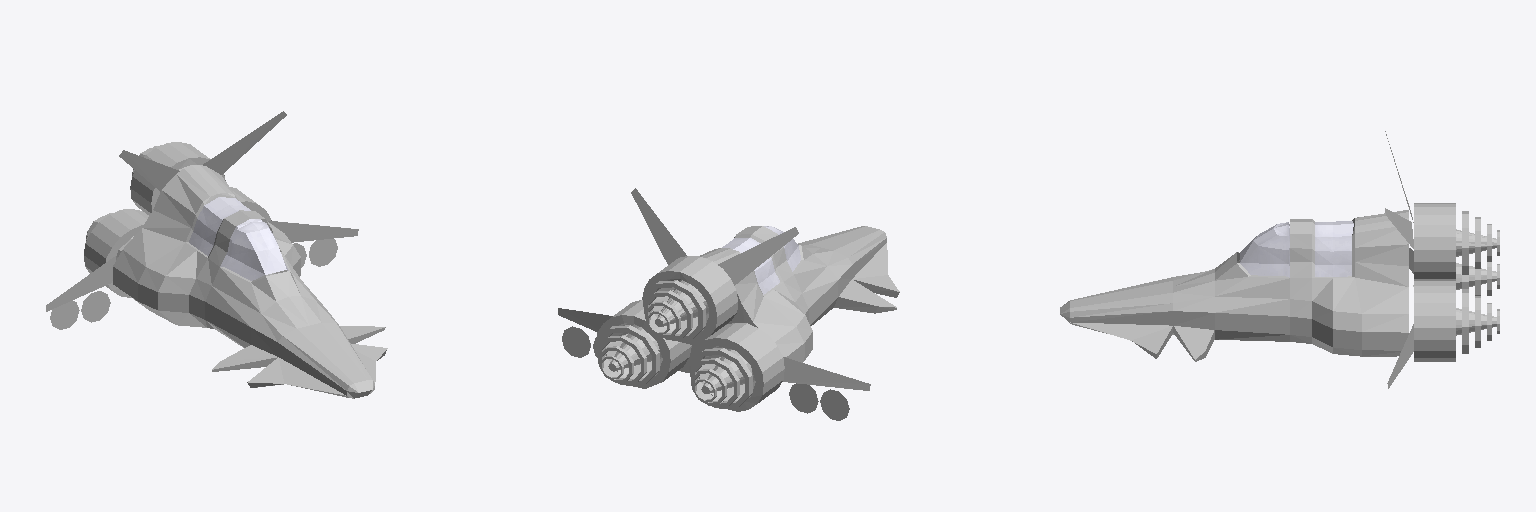
3 views of the same model, side by side, from view 1: azimuth 30°, elevation 25°; view 2: azimuth 150°, elevation 25°; view 3: azimuth 270°, elevation 25° (orthographic).
Parts seen in each view (by area): view 1: Mesh_0112.003, Mesh_0112.001, Mesh_0112.004, Mesh_0112.000, Cylinder, Cylinder.001_Cylinder.002; view 2: Mesh_0112.003, Mesh_0112.001, Mesh_0112.002, Mesh_0112.004, Cylinder, Mesh_0112.000, Cylinder.001_Cylinder.002; view 3: Mesh_0112.003, Mesh_0112.001, Mesh_0112.000, Mesh_0112.002, Mesh_0112.004.
Boxes of the visible parts, box(x1,y1,x2,y2) form: Mesh_0112.003: box(113, 165, 387, 398); Mesh_0112.001: box(84, 142, 271, 297); Mesh_0112.004: box(46, 111, 358, 311); Mesh_0112.000: box(189, 197, 288, 280); Cylinder: box(50, 291, 110, 329); Cylinder.001_Cylinder.002: box(293, 239, 337, 267); Mesh_0112.003: box(679, 226, 899, 372); Mesh_0112.001: box(596, 256, 784, 411); Mesh_0112.002: box(598, 280, 752, 408); Mesh_0112.004: box(558, 188, 870, 390); Cylinder: box(789, 383, 849, 420); Mesh_0112.000: box(722, 226, 800, 294); Cylinder.001_Cylinder.002: box(562, 326, 597, 357); Mesh_0112.003: box(1060, 210, 1408, 361); Mesh_0112.001: box(1413, 203, 1496, 361); Mesh_0112.000: box(1240, 221, 1353, 277); Mesh_0112.002: box(1462, 211, 1499, 353); Mesh_0112.004: box(1385, 131, 1413, 388).
Bounding box in the file's own units: 1.49 × 0.7908 × 1.81.
4 materials, 1 textured.